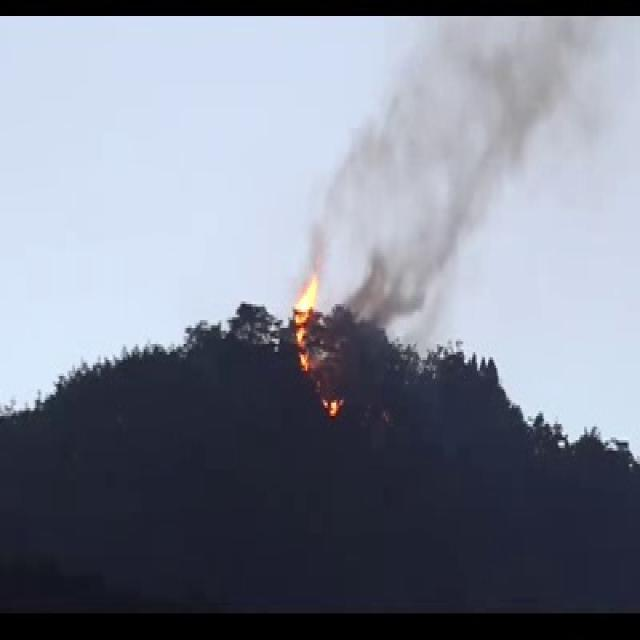Fire: (298, 278, 317, 310)
Smoke: (352, 248, 432, 316)
